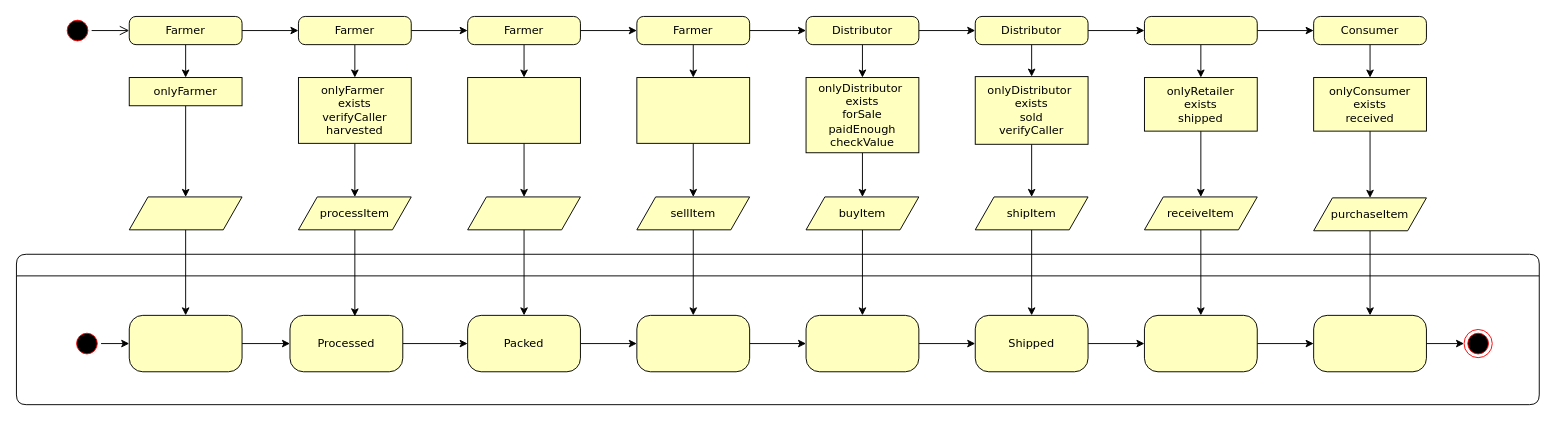
This 1556x421 diagram has some shape labels left out. The shapes that lost their labels are listed below. From the top down, each one's box as (x1, y1, x2, y2) in pixels, then its label:
(1144, 16, 1257, 45): Retailer
(467, 77, 580, 143): onlyFarmer exists verifyCaller processed
(636, 77, 750, 143): onlyFarmer exists verifyCaller packed
(128, 196, 242, 230): harvestItem
(467, 196, 580, 230): packItem
(128, 314, 242, 372): Harvested
(636, 314, 750, 372): ForSale
(16, 253, 1539, 405): Coffee state
(805, 314, 919, 372): Sold
(1144, 314, 1257, 372): Received
(1313, 314, 1426, 372): Purchased
